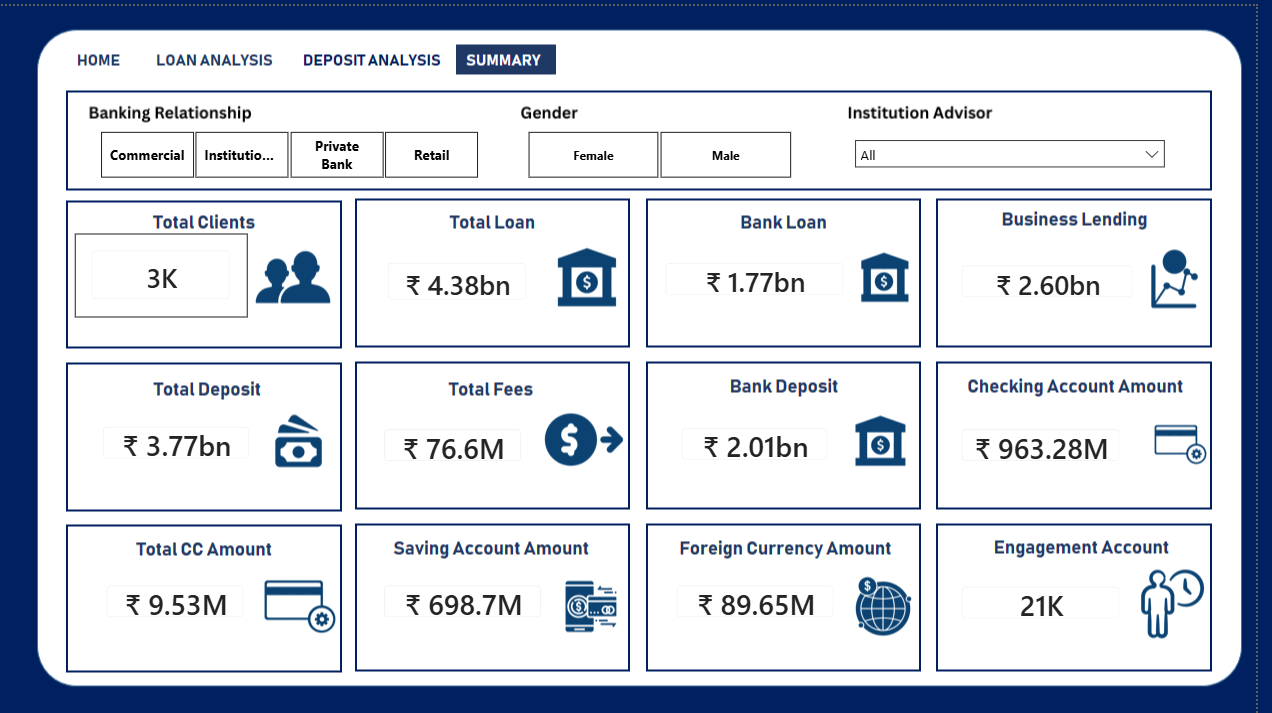

Layout of this report page (visuals, bound fields, positions):
{"tool":"powerbi","page":{"name":"Summary","canvas":[1280,720],"ordinal":3},"visuals":[{"type":"actionButton","box":[73.8,32.5,100,40],"z":0},{"type":"actionButton","box":[173.8,32.5,138.8,40],"z":1000},{"type":"actionButton","box":[312.5,32.5,163.8,40],"z":2000},{"type":"cardVisual","fields":{"Data":["CountNonNull(banking_case customer.Name)"]},"box":[98.8,227.5,172.5,83.8],"z":3000},{"type":"cardVisual","fields":{"Data":["banking_case customer.Total Loan"]},"box":[395,240,172.5,71.2],"z":4000},{"type":"cardVisual","fields":{"Data":["Sum(banking_case customer.Bank Loans)"]},"box":[672.5,240,212.5,66.2],"z":5000},{"type":"cardVisual","fields":{"Data":["Sum(banking_case customer.Business Lending)"]},"box":[968.8,242.5,205,66.2],"z":6000},{"type":"cardVisual","fields":{"Data":["banking_case customer.Total Deposit"]},"box":[110,403.8,180,66.2],"z":7000},{"type":"cardVisual","fields":{"Data":["Sum(banking_case customer.Bank Deposits)"]},"box":[688.8,405,180,66.2],"z":8000},{"type":"cardVisual","fields":{"Data":["Sum(banking_case customer.Checking Accounts)"]},"box":[968.8,406.2,192.5,66.2],"z":9000},{"type":"cardVisual","fields":{"Data":["Sum(banking_case customer.Credit Card Balance)"]},"box":[113.8,562.5,171.2,66.2],"z":10000},{"type":"cardVisual","fields":{"Data":["Sum(banking_case customer.Superannuation Savings)"]},"box":[391.2,406.2,171.2,66.2],"z":11000},{"type":"cardVisual","fields":{"Data":["Sum(banking_case customer.Saving Accounts)"]},"box":[391.2,562.5,191.2,66.2],"z":12000},{"type":"cardVisual","fields":{"Data":["Sum(banking_case customer.Foreign Currency Account)"]},"box":[683.8,562.5,191.2,66.2],"z":13000},{"type":"image","box":[98.8,90,1130,28.8],"z":14000},{"type":"slicer","fields":{"Values":["banking_case customer.BRId"]},"box":[98.8,118.8,427.5,60],"z":15000},{"type":"slicer","fields":{"Values":["banking_case customer.GenderId"]},"box":[526.2,118.8,312.5,60],"z":16000},{"type":"slicer","fields":{"Values":["banking_case customer.IAId"]},"box":[868.8,123.8,330,48.8],"z":17000},{"type":"cardVisual","fields":{"Data":["banking_case customer.Engagement Account"]},"box":[968.8,563.8,192.5,66.2],"z":18000}]}

Visuals, with their boxes in screenshot pixels (x1, y1, x2, y2), scaled from the page's 1280x720 canvas onto the 1272x713 screenshot:
actionButton: Rect(73, 32, 173, 72)
actionButton: Rect(173, 32, 311, 72)
actionButton: Rect(311, 32, 473, 72)
cardVisual - CountNonNull(banking_case customer.Name): Rect(98, 225, 270, 308)
cardVisual - banking_case customer.Total Loan: Rect(393, 238, 564, 308)
cardVisual - Sum(banking_case customer.Bank Loans): Rect(668, 238, 879, 303)
cardVisual - Sum(banking_case customer.Business Lending): Rect(963, 240, 1166, 306)
cardVisual - banking_case customer.Total Deposit: Rect(109, 400, 288, 465)
cardVisual - Sum(banking_case customer.Bank Deposits): Rect(684, 401, 863, 467)
cardVisual - Sum(banking_case customer.Checking Accounts): Rect(963, 402, 1154, 468)
cardVisual - Sum(banking_case customer.Credit Card Balance): Rect(113, 557, 283, 623)
cardVisual - Sum(banking_case customer.Superannuation Savings): Rect(389, 402, 559, 468)
cardVisual - Sum(banking_case customer.Saving Accounts): Rect(389, 557, 579, 623)
cardVisual - Sum(banking_case customer.Foreign Currency Account): Rect(680, 557, 870, 623)
image: Rect(98, 89, 1221, 118)
slicer - banking_case customer.BRId: Rect(98, 118, 523, 177)
slicer - banking_case customer.GenderId: Rect(523, 118, 833, 177)
slicer - banking_case customer.IAId: Rect(863, 123, 1191, 171)
cardVisual - banking_case customer.Engagement Account: Rect(963, 558, 1154, 624)
